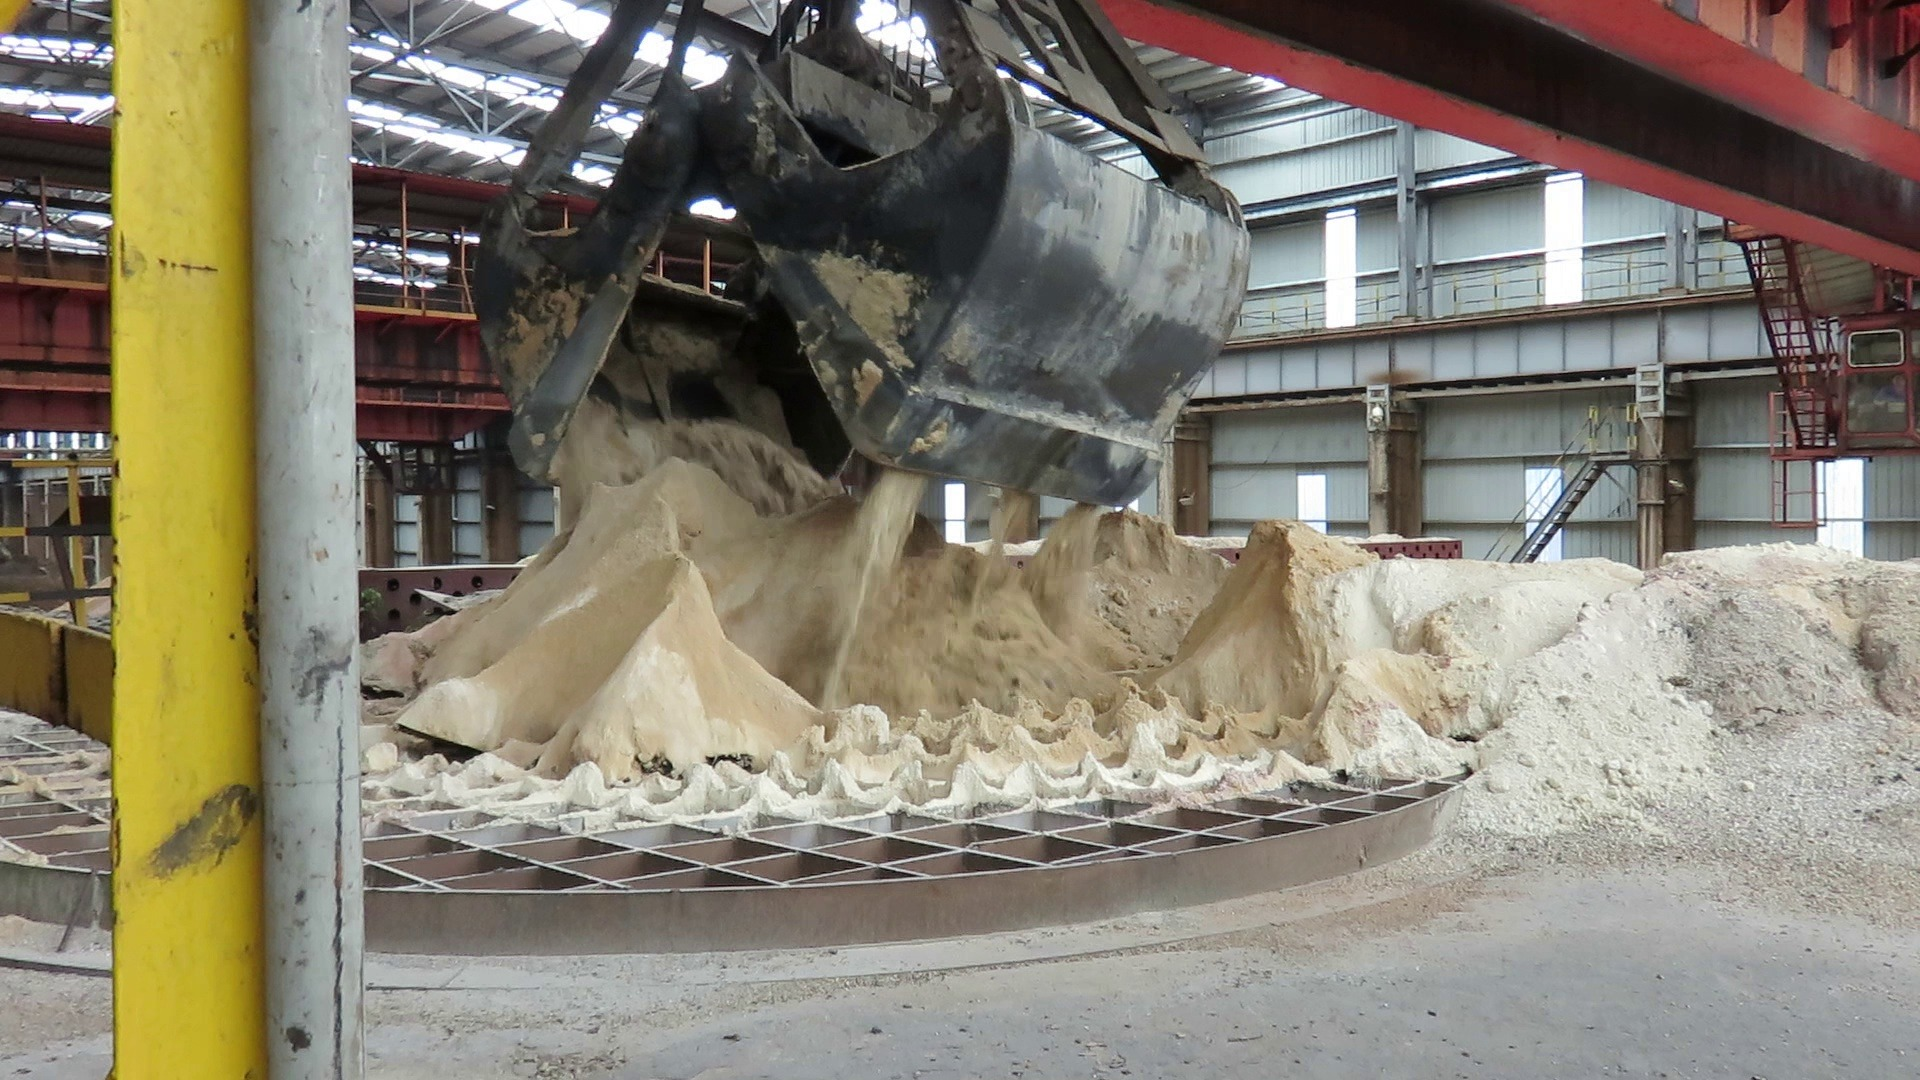grab: (475, 0, 1263, 514)
